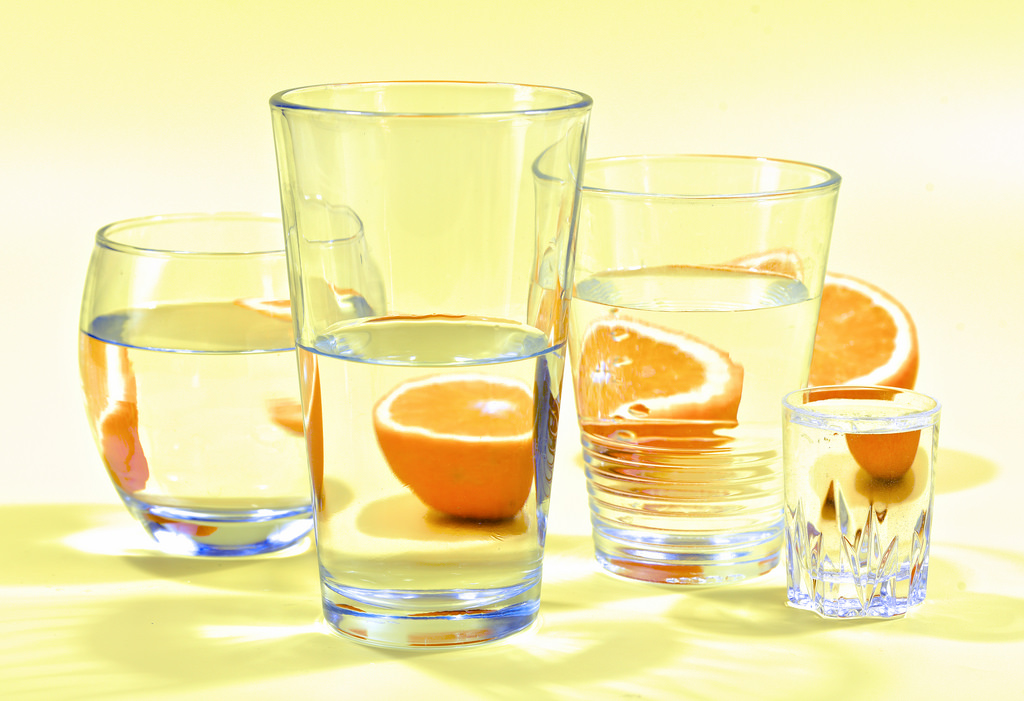glass of water: (273, 88, 552, 645), (547, 152, 783, 573), (96, 221, 281, 539), (791, 393, 934, 611)
